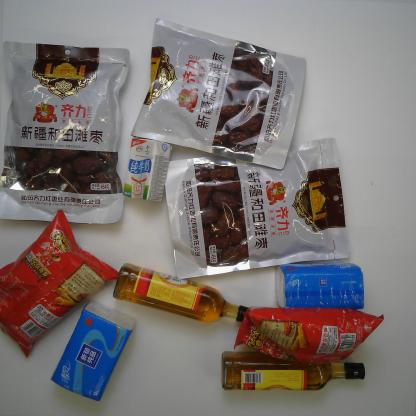Dried Food: (162, 136, 354, 282), (130, 16, 308, 172), (1, 40, 133, 228)
Milk: (120, 136, 174, 202)
Puffed Food: (0, 208, 123, 358), (231, 303, 385, 366)
Seasoner: (112, 262, 252, 324), (219, 350, 368, 392)
Tissue: (49, 298, 137, 404), (274, 259, 366, 310)
